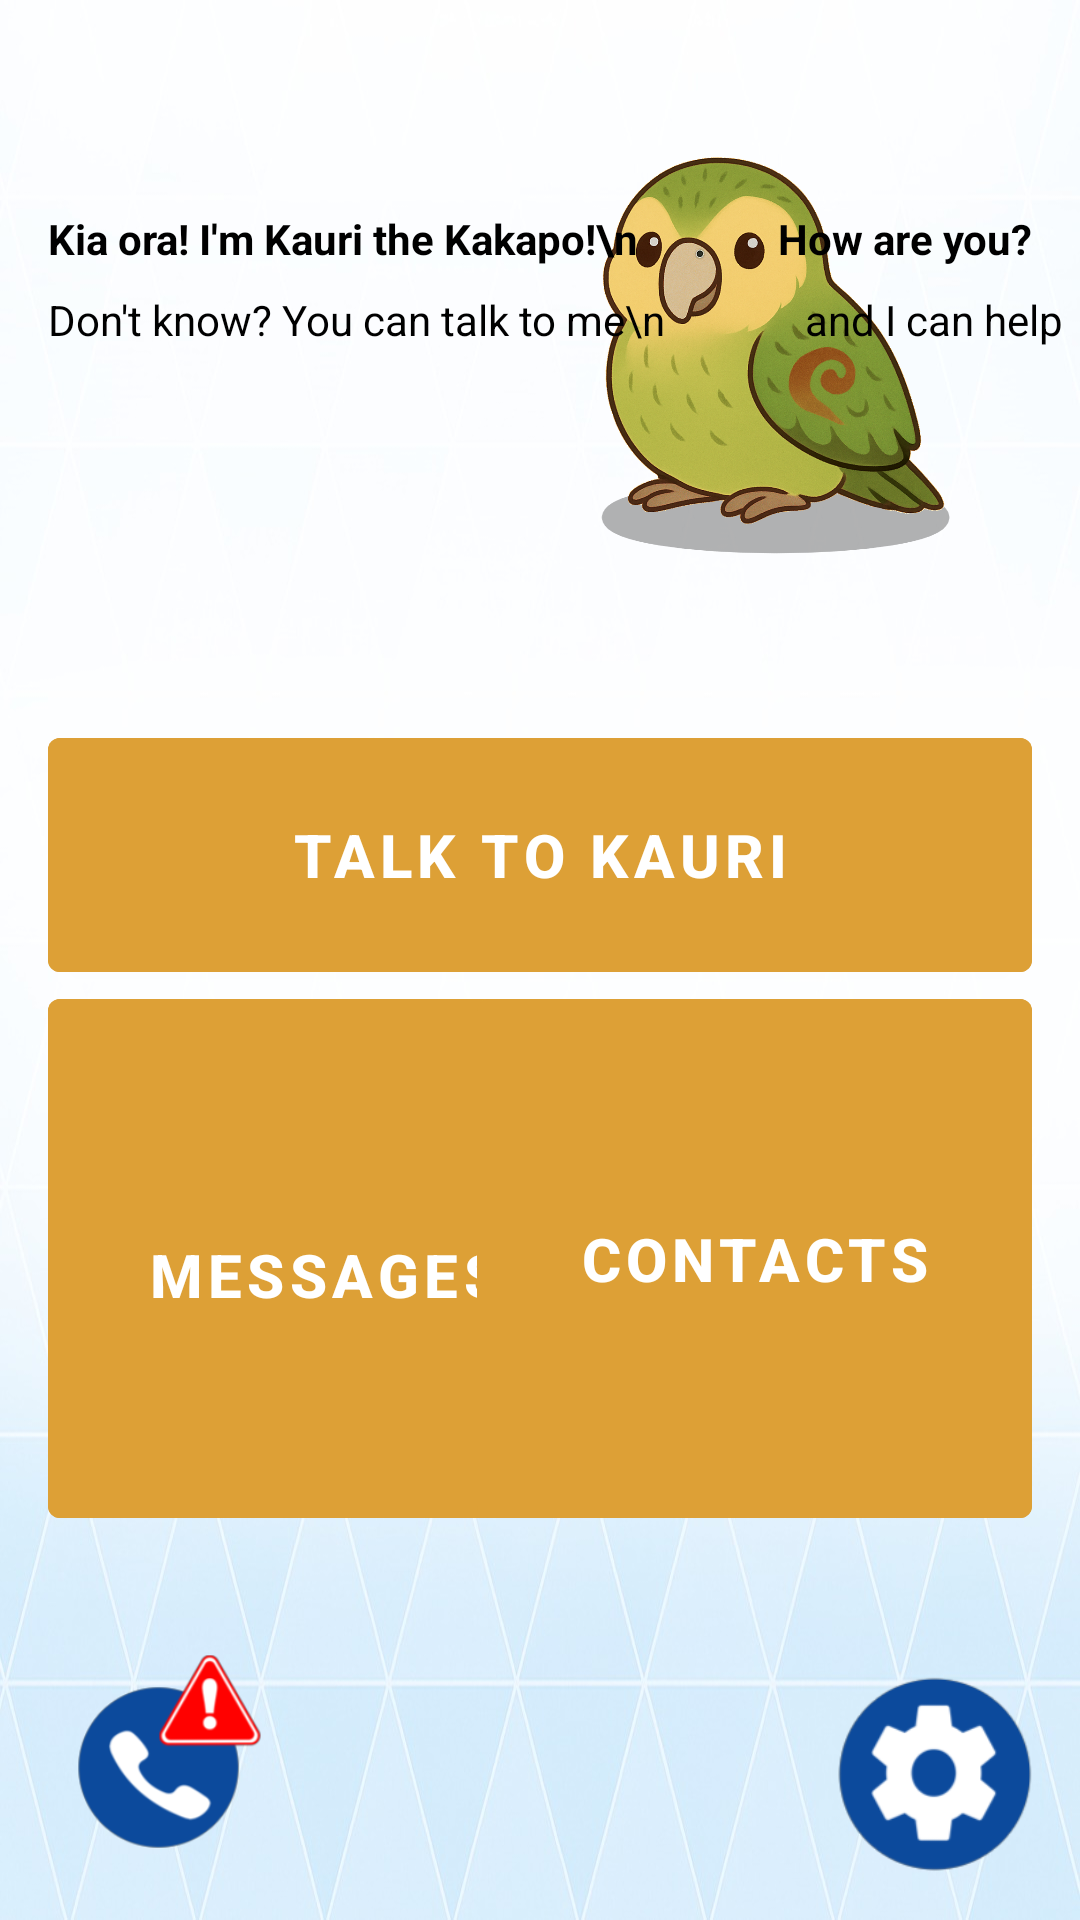

Screen size 1080 × 1920. Icon name, then its center in pixels as point (x, y):
emergencybutton: point (172, 1750)
settingsbutton: point (935, 1774)
